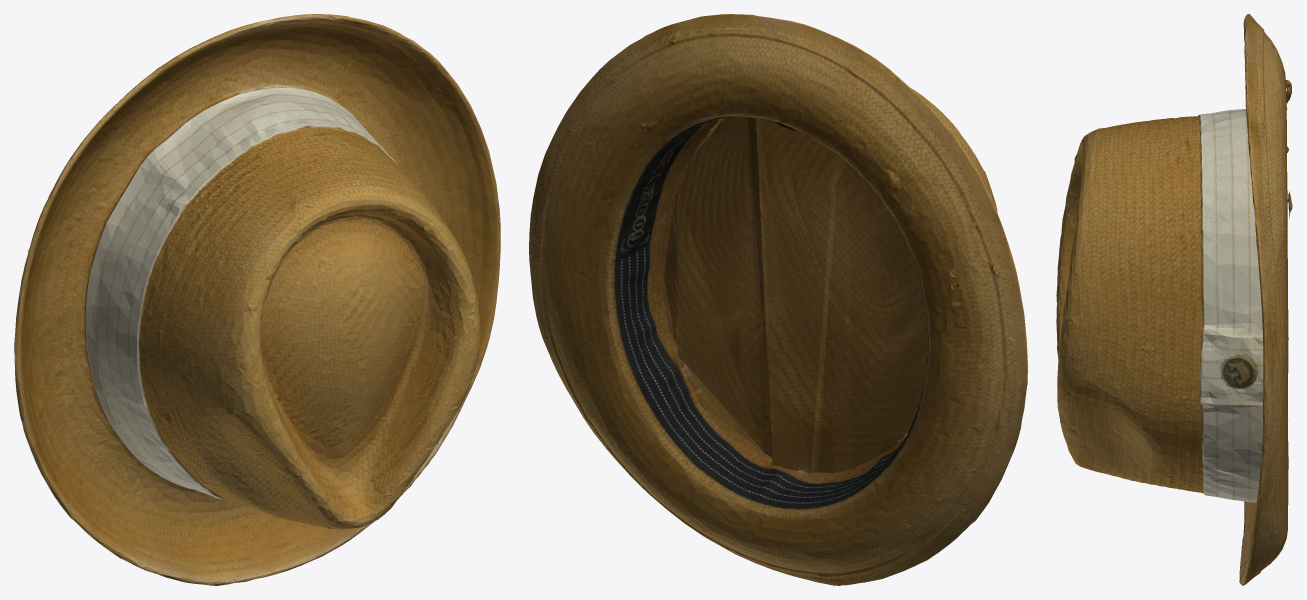
The model's file is hat.glb.
3 views of the same model, side by side, from view 1: azimuth 30°, elevation 25°; view 2: azimuth 150°, elevation 25°; view 3: azimuth 270°, elevation 25° (orthographic). The views are drawn at different scales.
Parts seen in each view (by area): view 1: geometry_0; view 2: geometry_0; view 3: geometry_0.
Boxes of the visible parts, x1,y1,x2,y2 form: geometry_0: [14, 14, 500, 585]; geometry_0: [529, 14, 1027, 585]; geometry_0: [1056, 14, 1292, 585].
Size of the model in its own units: 0.9271 by 1 by 0.4091.
1 material, 1 textured.
